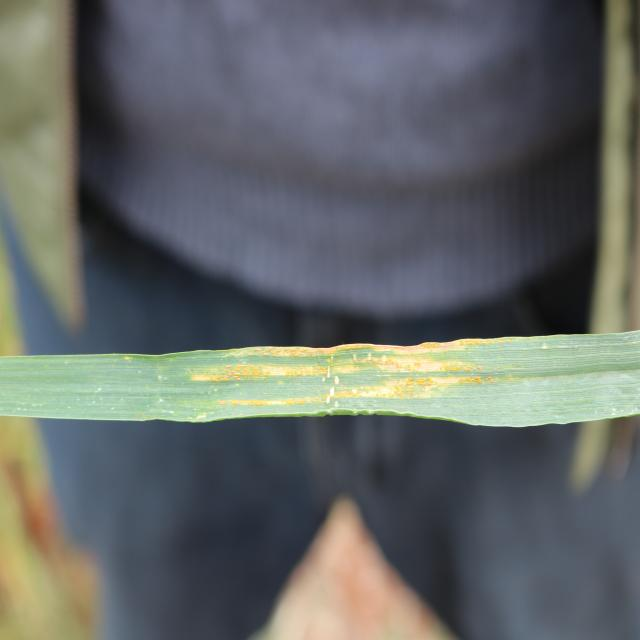Stripe Rust: (173, 338, 510, 424)
